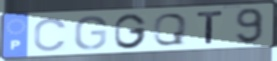9: (234, 7, 266, 45)
C: (32, 16, 69, 53)
G: (113, 12, 149, 50), (72, 15, 109, 51)
Q: (151, 12, 189, 47)
T: (195, 10, 226, 45)
